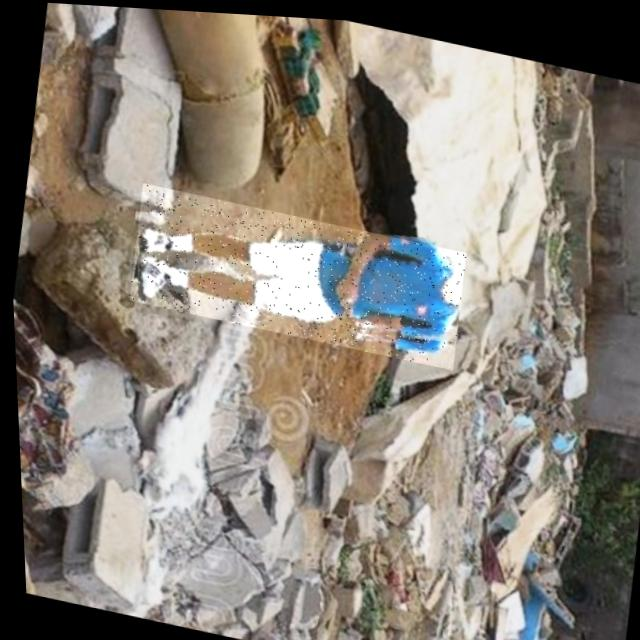Person in Rubble: (120, 180, 467, 366)
